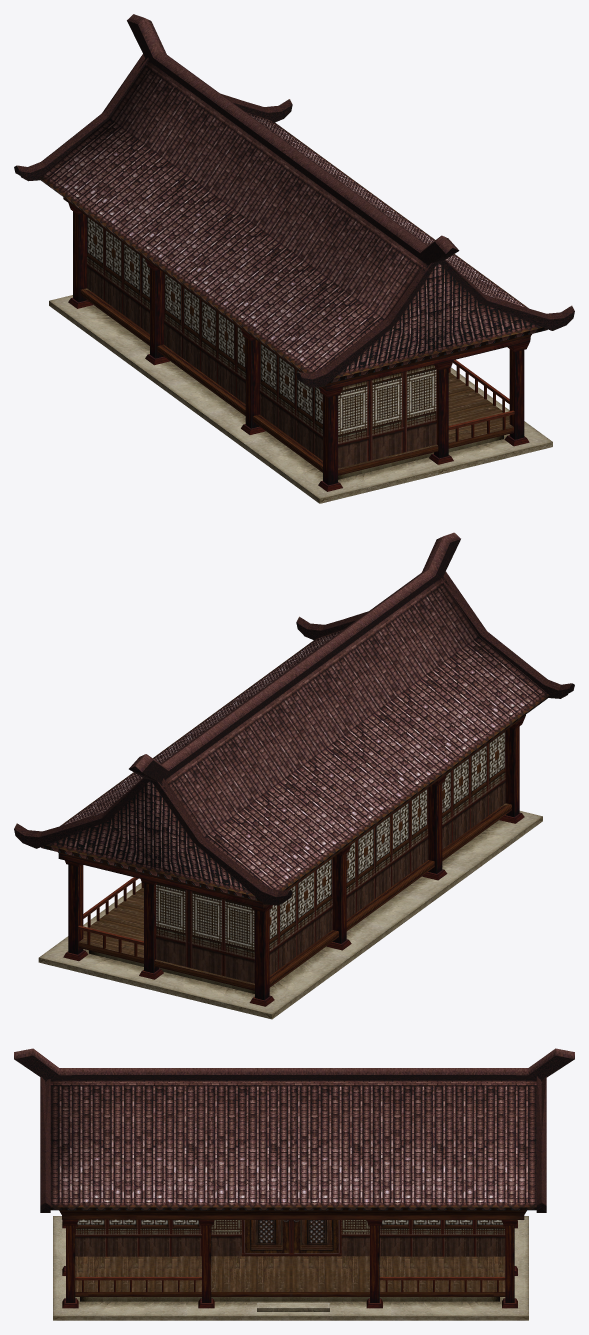
Rendered from ob-033-guesthouse-02.glb.
3 views of the same model, one above another, from view 1: azimuth 30°, elevation 25°; view 2: azimuth 150°, elevation 25°; view 3: azimuth 270°, elevation 25° (orthographic). The views are drawn at different scales.
Visible parts, largest first — view 1: ob-033-guesthouse-01, ob-033-guesthouse-02; view 2: ob-033-guesthouse-01, ob-033-guesthouse-02; view 3: ob-033-guesthouse-01, ob-033-guesthouse-02.
Part boxes in pixels (left/top/right/bottom): ob-033-guesthouse-01: left=14, top=14, right=574, bottom=491; ob-033-guesthouse-02: left=49, top=211, right=552, bottom=503; ob-033-guesthouse-01: left=14, top=532, right=574, bottom=1006; ob-033-guesthouse-02: left=38, top=726, right=542, bottom=1019; ob-033-guesthouse-01: left=14, top=1048, right=574, bottom=1311; ob-033-guesthouse-02: left=53, top=1210, right=528, bottom=1320.
Size of the model in its own units: 13.56 by 11.85 by 27.45.
Materials: 2 (2 with a texture image).
